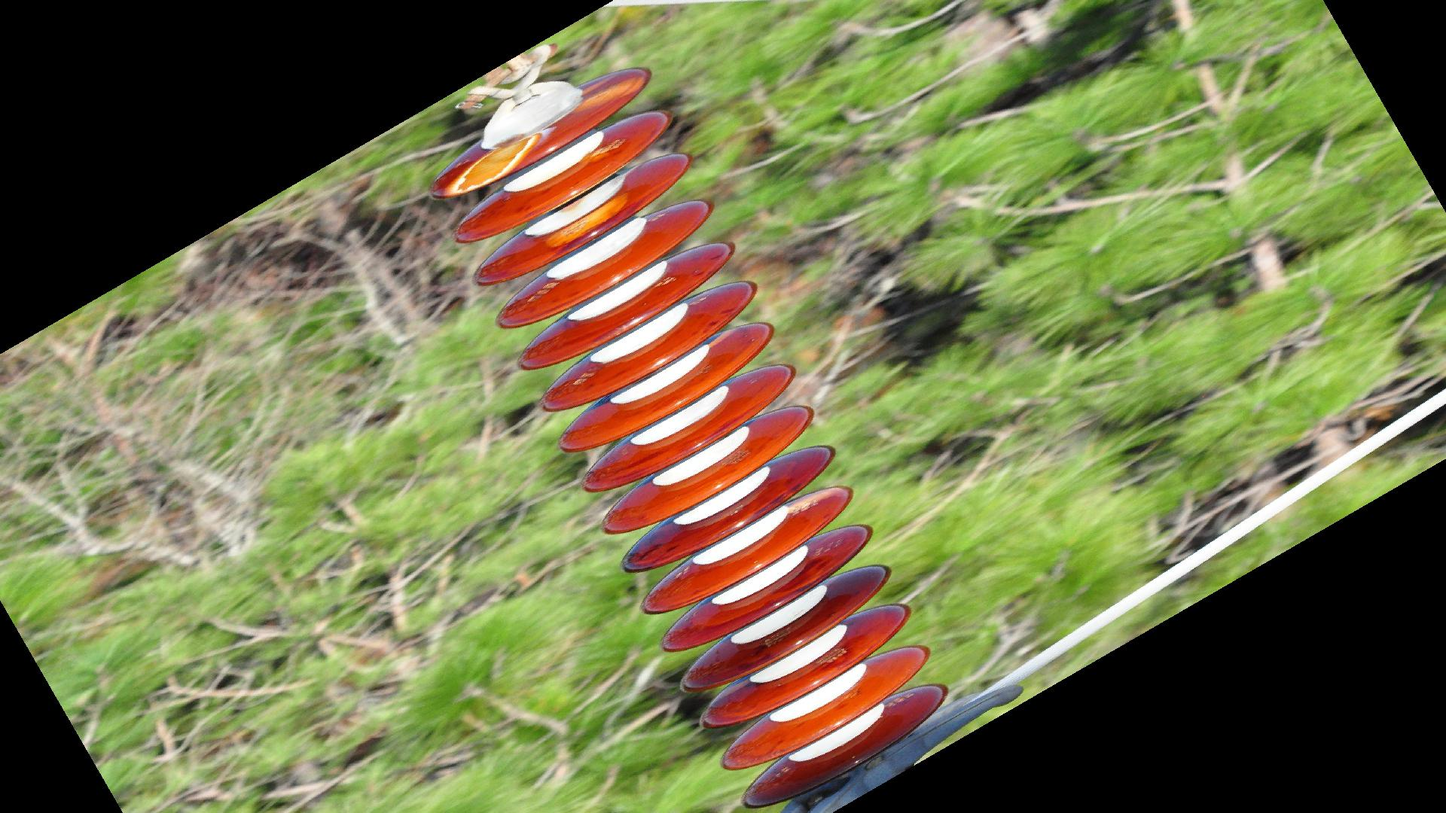insulator: (416, 63, 952, 808)
insulator_flashover: (445, 129, 542, 197), (542, 190, 630, 253), (573, 72, 650, 113), (782, 484, 842, 519)
